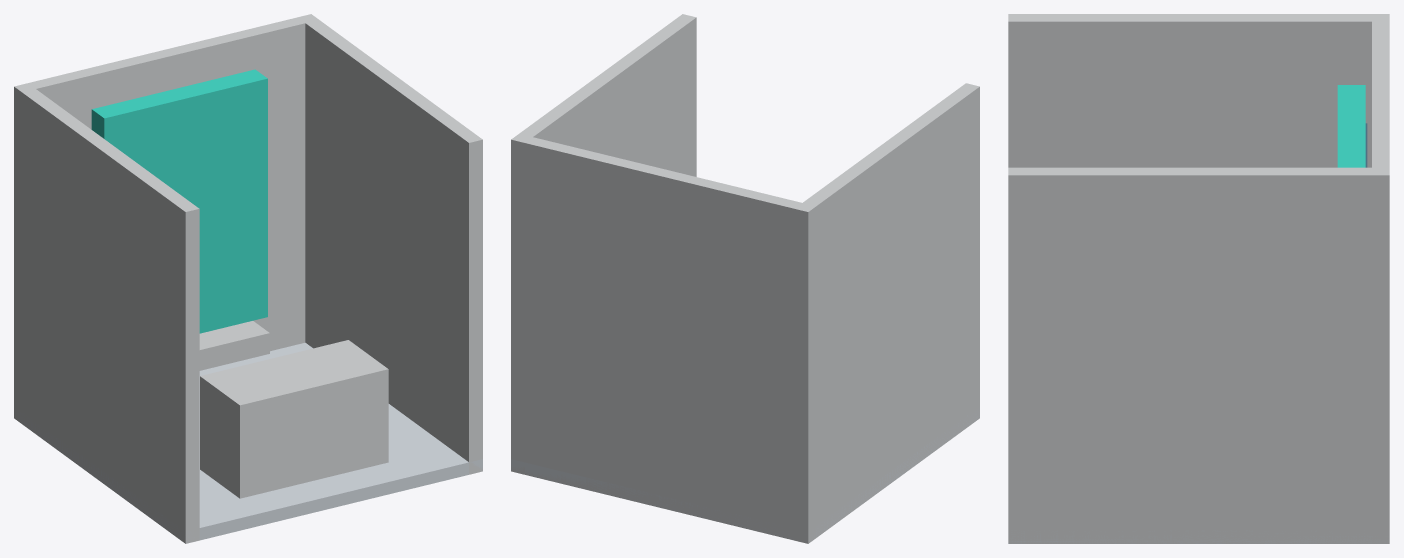
3 views of the same model, side by side, from view 1: azimuth 30°, elevation 25°; view 2: azimuth 150°, elevation 25°; view 3: azimuth 270°, elevation 25° (orthographic). The views are drawn at different scales.
Parts seen in each view (by area): view 1: Exhibition Booth Concept; view 2: Exhibition Booth Concept; view 3: Exhibition Booth Concept.
Part boxes in pixels (x1,y1,x2,y2): Exhibition Booth Concept: (14,14,482,543); Exhibition Booth Concept: (511,14,979,543); Exhibition Booth Concept: (1008,14,1389,543).
Bounding box in the file's own units: 3 × 3.2 × 3.
